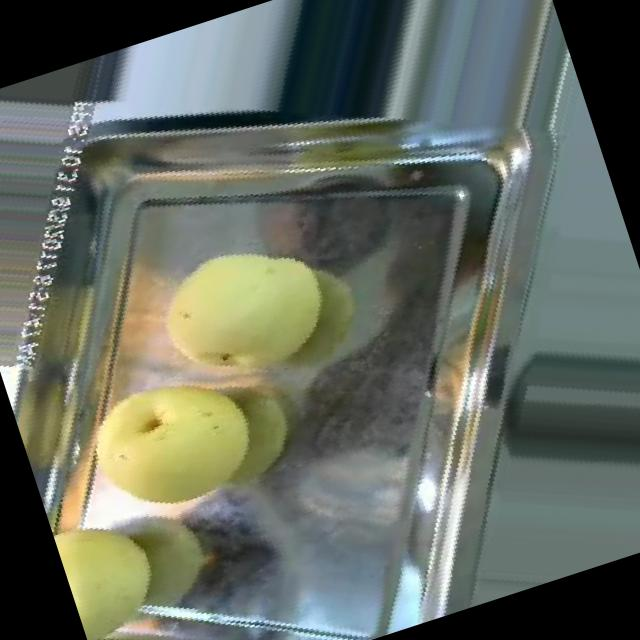Fruit: (120, 198, 372, 438), (53, 327, 297, 559), (49, 491, 197, 640)
